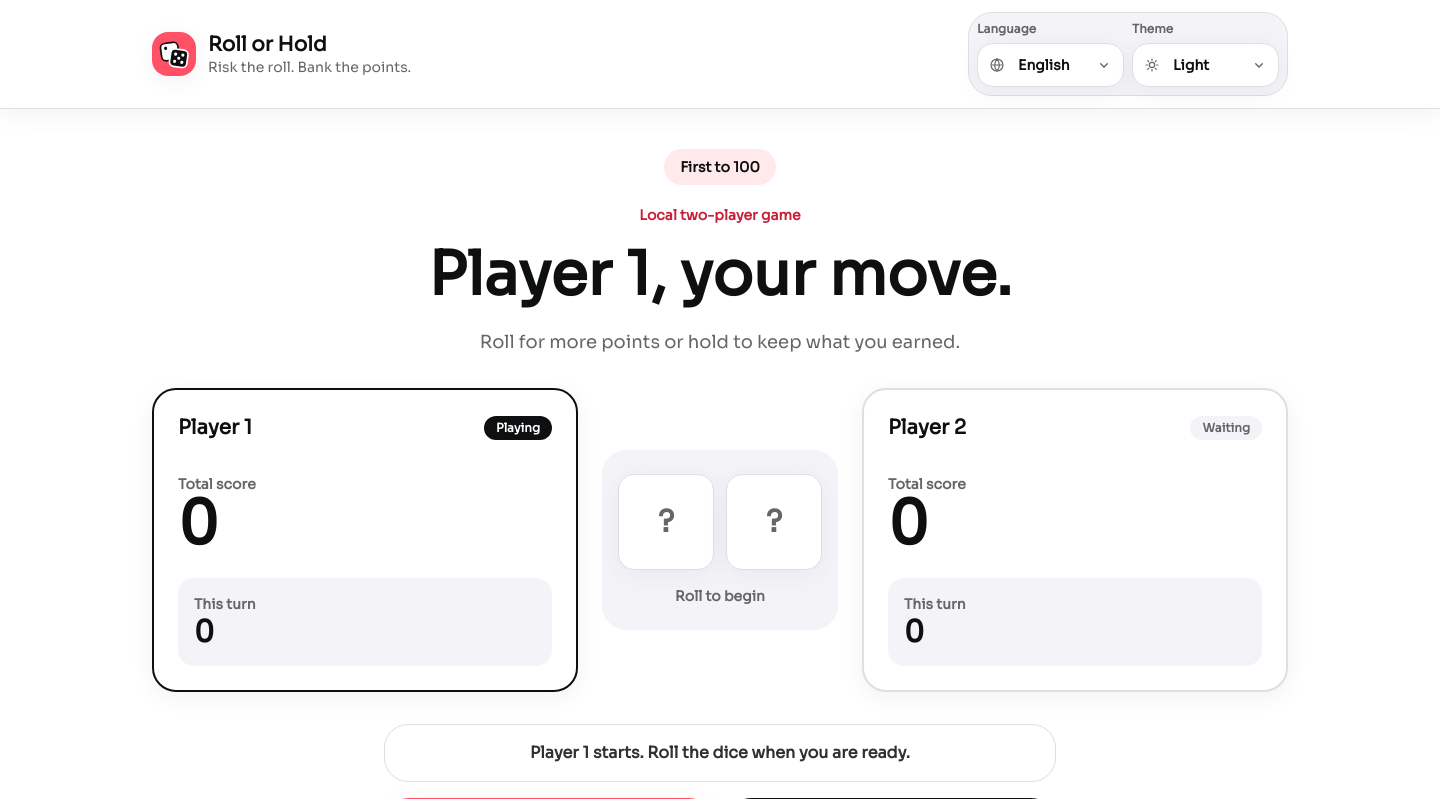
GamePage › switches the interface language
Click the button with aria-label "Language".
click(1050, 65)  # box [977,43,1124,87]
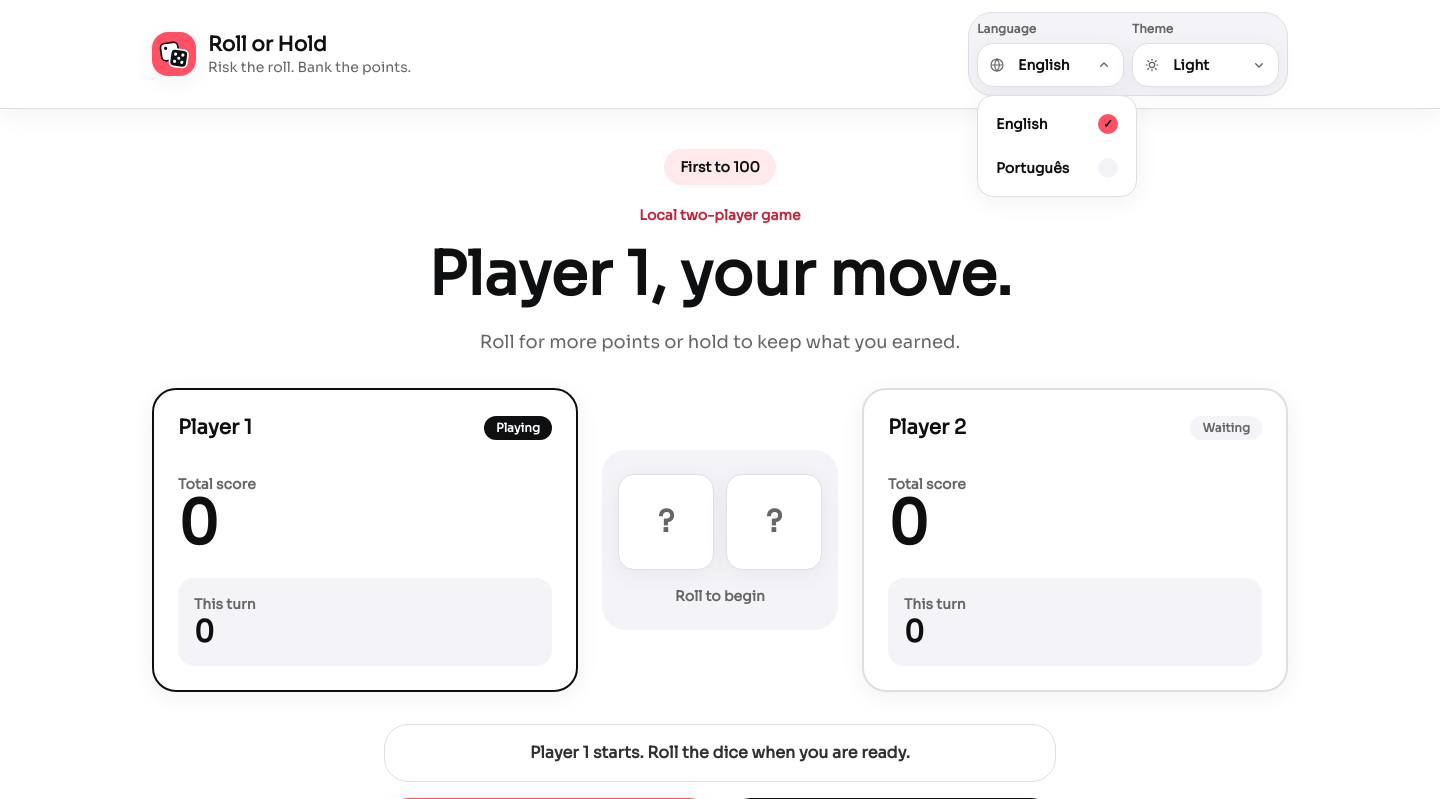
Click the option "Português ✓".
click(1057, 168)  # box [984,146,1130,190]
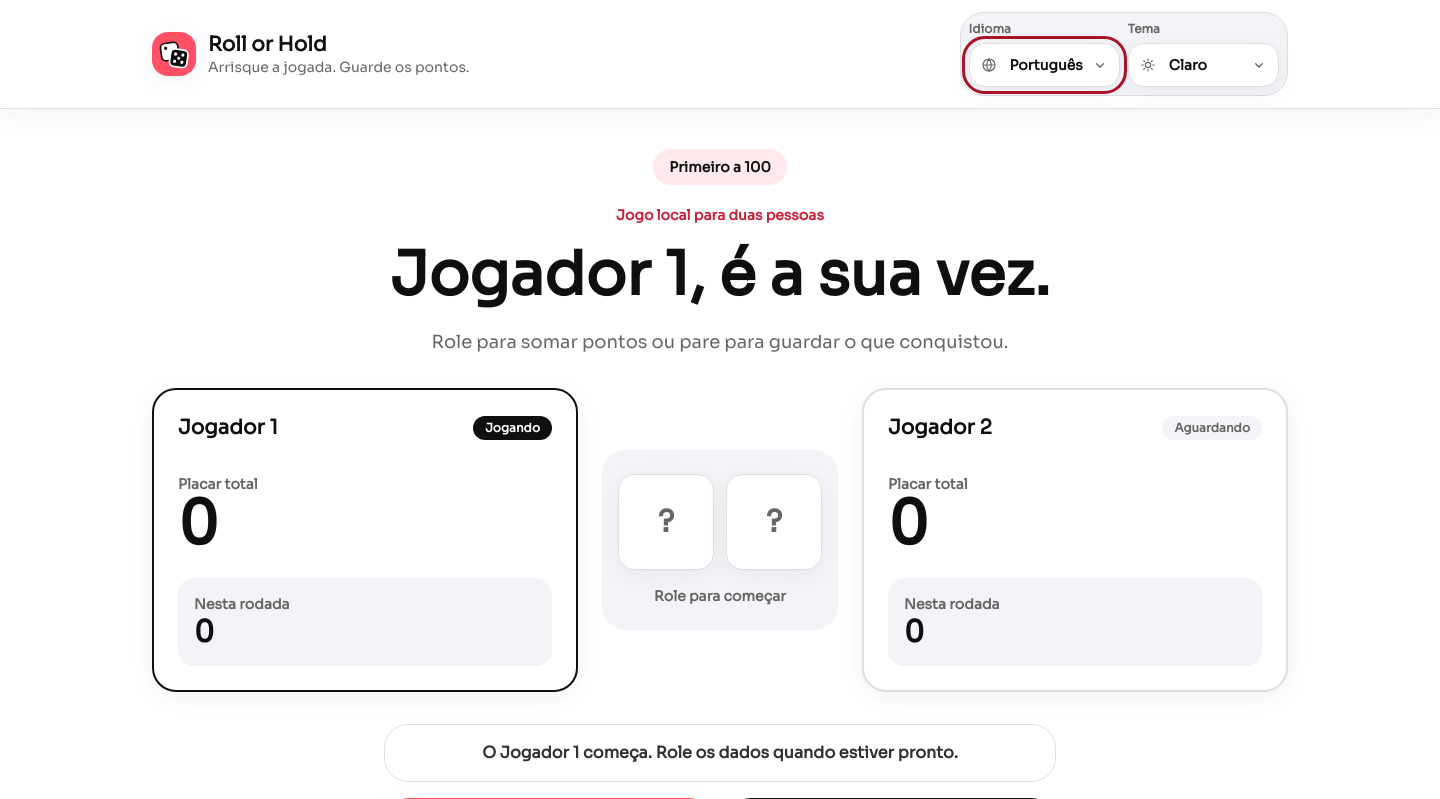
Check: the heading "Jogador 1, é a sua vez." is shown, box [390,237,1050,312]
